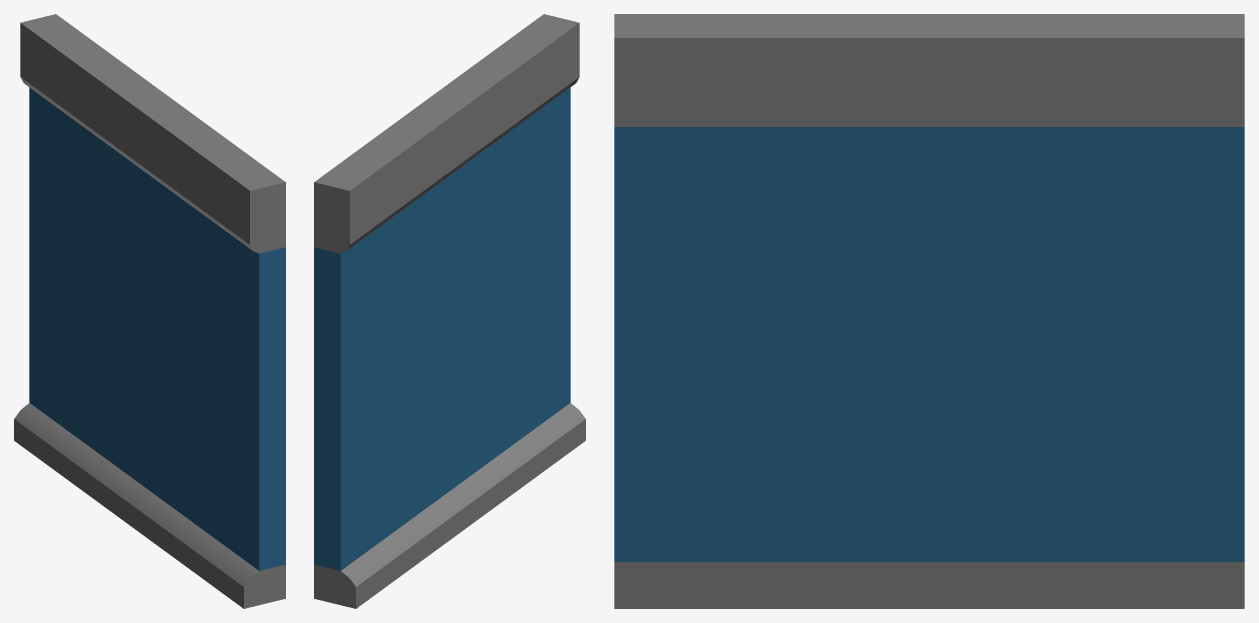
Rendered from Wall3_Base.fbx.
3 renders of one model, left to right at view 1: azimuth 30°, elevation 25°; view 2: azimuth 150°, elevation 25°; view 3: azimuth 270°, elevation 25°, orthographic. The views are drawn at different scales.
Visible parts, largest first — view 1: Wall001_Base; view 2: Wall001_Base; view 3: Wall001_Base.
Boxes of the visible parts, x1,y1,x2,y2 form: Wall001_Base: (14, 14, 285, 608); Wall001_Base: (314, 14, 585, 608); Wall001_Base: (614, 14, 1244, 608).
Bounding box in the file's own units: 12.42 × 118 × 118.
